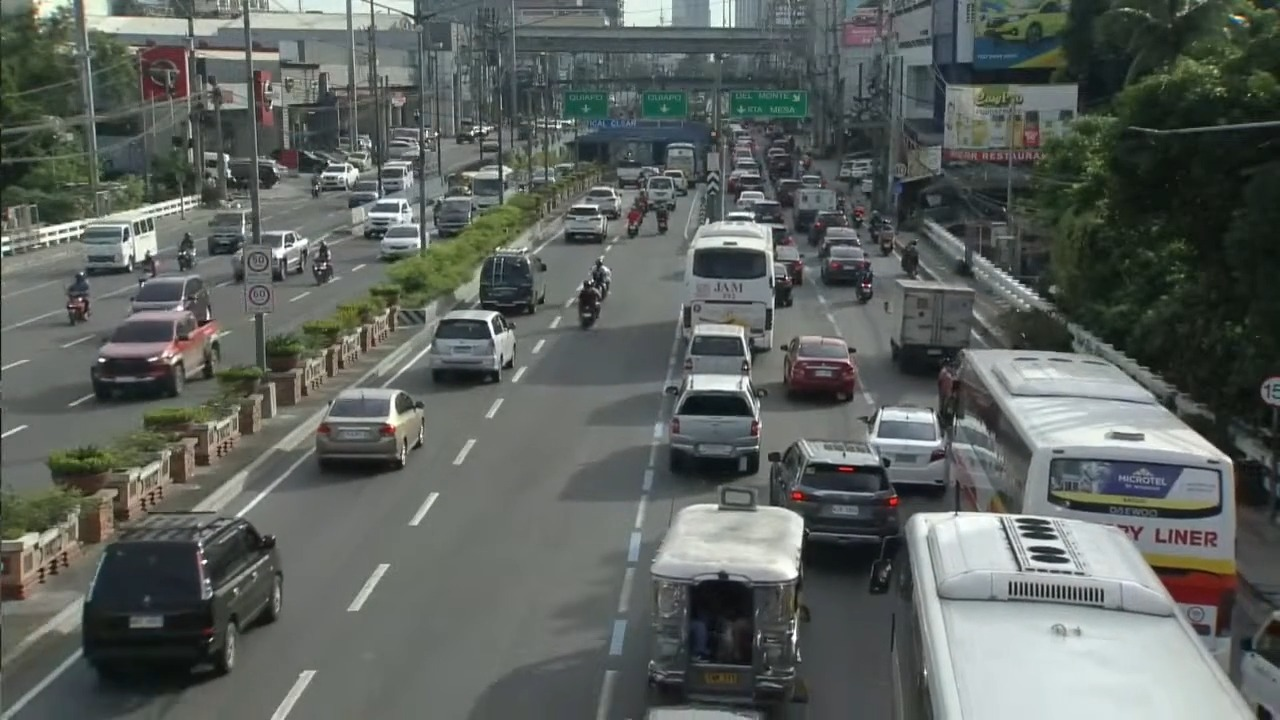bus: (945, 349, 1236, 662), (871, 512, 1253, 719), (681, 222, 774, 351), (80, 212, 158, 273), (470, 167, 517, 209), (664, 142, 700, 187)
car: (80, 512, 283, 680), (768, 439, 900, 545), (90, 311, 220, 399), (665, 373, 766, 473), (314, 387, 424, 468), (863, 405, 944, 490), (428, 309, 516, 382), (781, 335, 857, 401), (478, 247, 547, 313), (130, 274, 212, 322), (981, 0, 1068, 45), (682, 324, 752, 374), (262, 230, 309, 279), (206, 209, 252, 256), (363, 198, 413, 238), (821, 245, 869, 284), (433, 195, 475, 236), (229, 158, 286, 188), (379, 223, 419, 260), (809, 210, 849, 245), (818, 227, 861, 258), (583, 186, 621, 218), (775, 244, 803, 285), (644, 173, 675, 209), (319, 163, 359, 190), (348, 179, 383, 207), (757, 220, 793, 247), (735, 190, 766, 221), (773, 262, 793, 306), (751, 198, 784, 223), (387, 139, 422, 160), (775, 179, 801, 207), (296, 151, 329, 173), (663, 169, 687, 195), (735, 173, 764, 194), (345, 150, 371, 170), (726, 170, 745, 193), (733, 157, 760, 173), (800, 173, 825, 188), (724, 210, 754, 222), (554, 163, 575, 177), (480, 137, 498, 152)
motorcycle: (66, 294, 87, 325), (312, 259, 332, 284), (592, 276, 610, 301), (579, 305, 597, 329), (901, 253, 918, 278), (856, 278, 872, 303), (177, 249, 195, 271), (879, 235, 893, 255), (657, 215, 668, 234), (627, 222, 638, 237), (311, 182, 320, 197)
truck: (890, 278, 974, 371), (1240, 611, 1279, 719), (794, 187, 836, 232), (563, 203, 607, 243), (617, 159, 643, 188)
